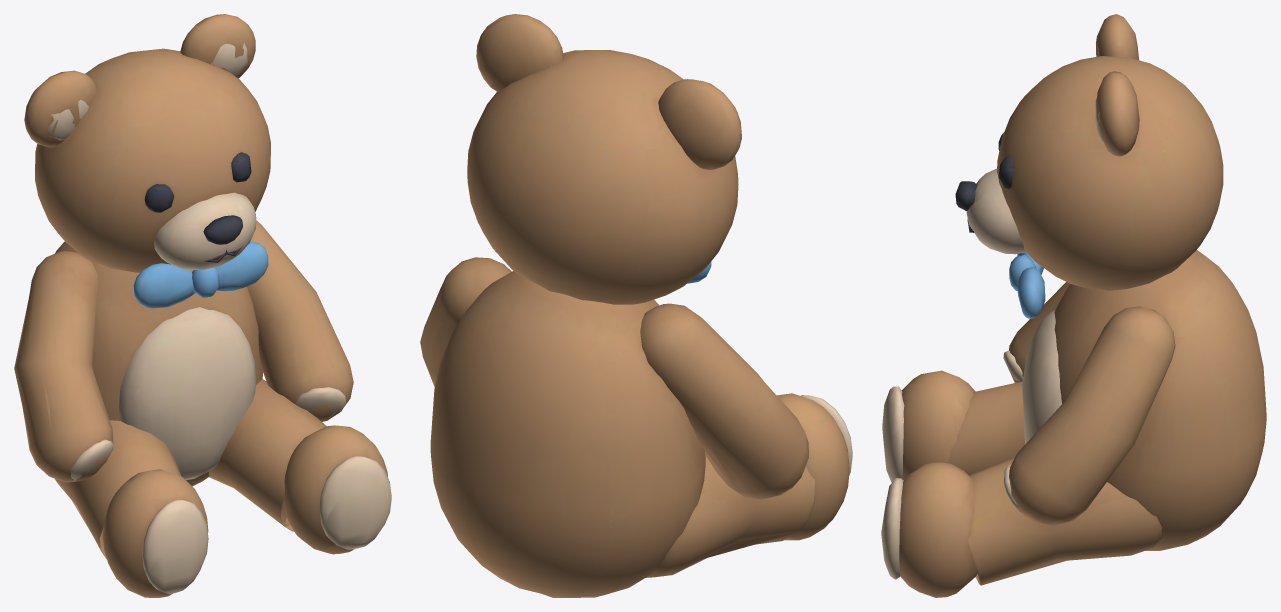
File: g3d_teddy_bear.glb
3 renders of one model, left to right at view 1: azimuth 30°, elevation 25°; view 2: azimuth 150°, elevation 25°; view 3: azimuth 270°, elevation 25°, orthographic. The views are drawn at different scales.
Parts seen in each view (by area): view 1: teddy-bear_body, teddy-bear_body_lo; view 2: teddy-bear_body, teddy-bear_body_lo; view 3: teddy-bear_body.
Boxes of the visible parts, box(x1,y1,x2,y2) form: teddy-bear_body: box(14, 14, 391, 597); teddy-bear_body_lo: box(40, 249, 290, 557); teddy-bear_body: box(420, 14, 852, 597); teddy-bear_body_lo: box(701, 384, 802, 559); teddy-bear_body: box(881, 14, 1266, 597).
Bounding box in the file's own units: 0.2195 × 0.3217 × 0.2242.
Materials: 1 (1 with a texture image).
